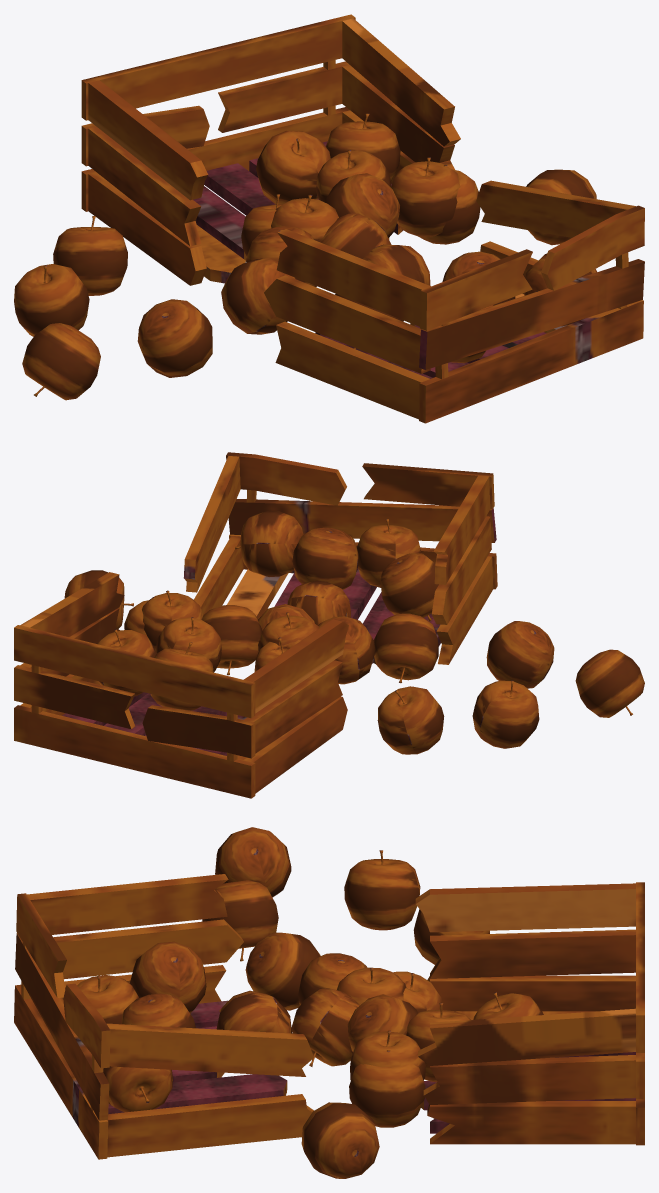
Rendered from broken fruit crate_3.fbx.
The picture shows the model from 3 angles, top to bottom: view 1: azimuth 30°, elevation 25°; view 2: azimuth 150°, elevation 25°; view 3: azimuth 270°, elevation 25°; orthographic projection. The views are drawn at different scales.
Visible parts, largest first — view 1: Cube.002, Cube.006, Plane.1885, Plane.1882, Plane.1873, Plane.1881, Plane.1884, Plane.1874, Plane.1888, Plane.1893, Plane.1887, Plane.1889 (+9 smaller); view 2: Cube.006, Cube.002, Plane.1873, Plane.1874, Plane.1888, Plane.1885, Plane.1882, Plane.1886, Plane.1892, Plane.1876, Plane.1893, Plane.1880 (+10 smaller); view 3: Cube.006, Cube.002, Plane.1883, Plane.1873, Plane.1875, Plane.1888, Plane.1876, Plane.1882, Plane.1889, Plane.1885, Plane.1886, Plane.1877 (+10 smaller).
Part boxes in pixels (bbox=[...]): Cube.002: bbox=[264, 180, 644, 423]; Cube.006: bbox=[81, 14, 460, 285]; Plane.1885: bbox=[137, 299, 212, 377]; Plane.1882: bbox=[22, 323, 100, 400]; Plane.1873: bbox=[14, 264, 89, 336]; Plane.1881: bbox=[391, 157, 460, 236]; Plane.1884: bbox=[256, 131, 330, 204]; Plane.1874: bbox=[53, 216, 127, 295]; Plane.1888: bbox=[221, 258, 295, 334]; Plane.1893: bbox=[325, 173, 399, 237]; Plane.1887: bbox=[326, 113, 400, 181]; Plane.1889: bbox=[321, 213, 391, 258]; Cube.006: bbox=[14, 572, 348, 798]; Cube.002: bbox=[183, 452, 497, 664]; Plane.1873: bbox=[472, 680, 539, 748]; Plane.1874: bbox=[377, 686, 444, 754]; Plane.1888: bbox=[373, 613, 438, 683]; Plane.1885: bbox=[486, 621, 554, 688]; Plane.1882: bbox=[575, 649, 644, 717]; Plane.1886: bbox=[235, 510, 303, 576]; Plane.1892: bbox=[292, 527, 358, 589]; Plane.1876: bbox=[380, 553, 438, 621]; Plane.1893: bbox=[202, 605, 262, 675]; Plane.1880: bbox=[356, 519, 421, 587]; Cube.006: bbox=[415, 882, 644, 1145]; Cube.002: bbox=[14, 874, 313, 1159]; Plane.1883: bbox=[301, 1102, 379, 1178]; Plane.1873: bbox=[344, 850, 420, 930]; Plane.1875: bbox=[349, 1050, 425, 1127]; Plane.1888: bbox=[245, 932, 320, 1010]; Plane.1876: bbox=[129, 941, 206, 1013]; Plane.1882: bbox=[215, 827, 291, 897]; Plane.1889: bbox=[291, 988, 359, 1066]; Plane.1885: bbox=[202, 880, 278, 961]; Plane.1886: bbox=[103, 1066, 172, 1112]; Plane.1877: bbox=[216, 990, 292, 1033].
Bounding box in the file's own units: 60.51 × 13.31 × 53.78.
